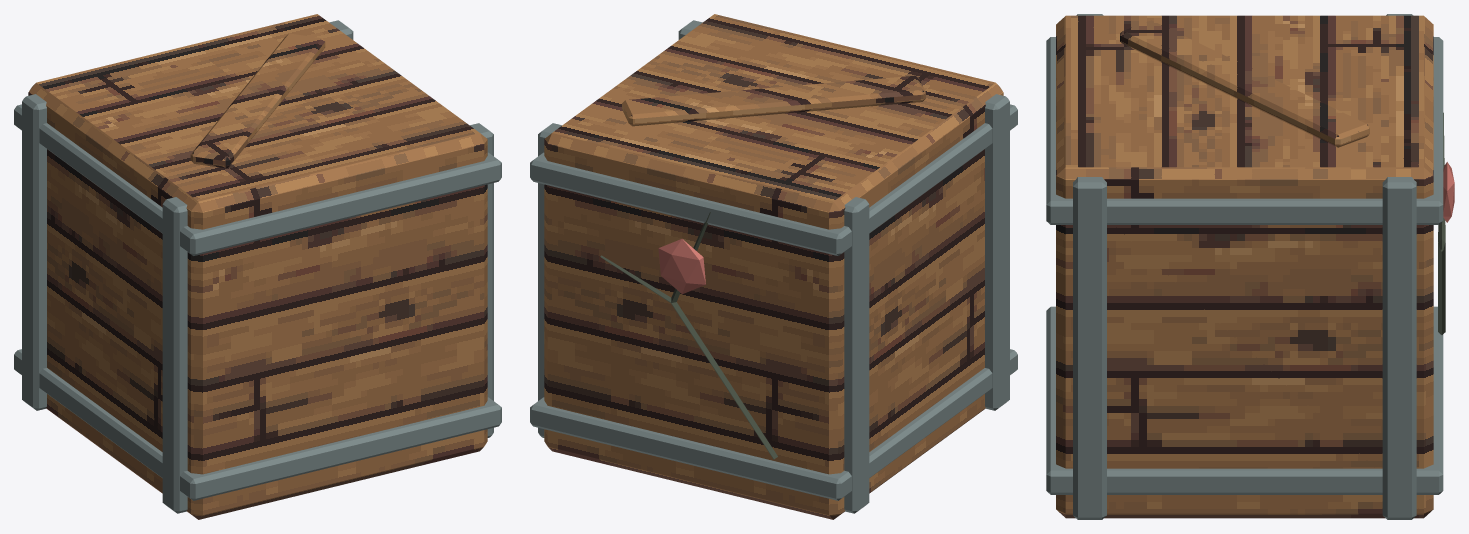
The model's file is caixa_rachada.fbx.
3 views of the same model, side by side, from view 1: azimuth 30°, elevation 25°; view 2: azimuth 150°, elevation 25°; view 3: azimuth 270°, elevation 25° (orthographic). The views are drawn at different scales.
Parts seen in each view (by area): view 1: bosque_caixa_rachada; view 2: bosque_caixa_rachada; view 3: bosque_caixa_rachada.
Part boxes in pixels (x1,y1,x2,y2): bosque_caixa_rachada: (14, 14, 501, 519); bosque_caixa_rachada: (530, 14, 1017, 519); bosque_caixa_rachada: (1046, 14, 1454, 519).
Size of the model in its own units: 84.2 by 83.2 by 84.33.
Materials: 4 (1 with a texture image).
